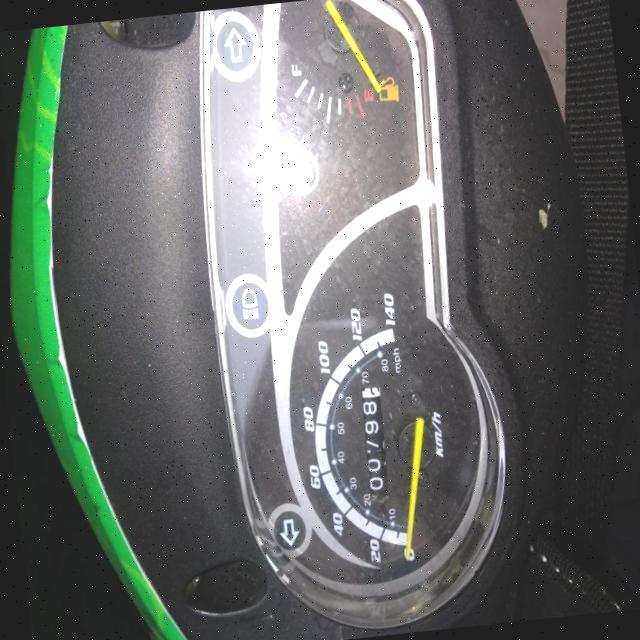odometer: (355, 380, 395, 500)
